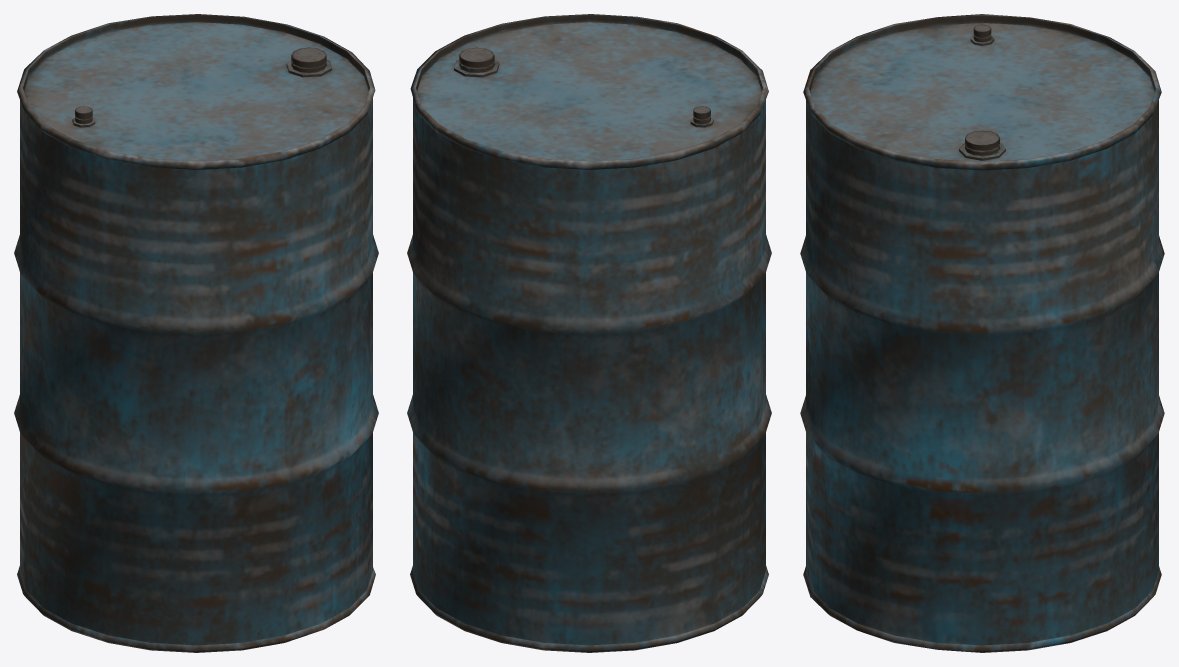
File: barilturquoise4mini.gltf
3 renders of one model, left to right at view 1: azimuth 30°, elevation 25°; view 2: azimuth 150°, elevation 25°; view 3: azimuth 270°, elevation 25°, orthographic.
Visible parts, largest first — view 1: Barrel_Blue_04_Barrel_Blue_04_0; view 2: Barrel_Blue_04_Barrel_Blue_04_0; view 3: Barrel_Blue_04_Barrel_Blue_04_0.
Part boxes in pixels (x1=…): Barrel_Blue_04_Barrel_Blue_04_0: x1=14, y1=14, x2=378, y2=652; Barrel_Blue_04_Barrel_Blue_04_0: x1=407, y1=14, x2=771, y2=652; Barrel_Blue_04_Barrel_Blue_04_0: x1=800, y1=14, x2=1164, y2=652.
Bounding box in the file's own units: 0.8565 × 1.28 × 0.8565.
Materials: 1 (1 with a texture image).
